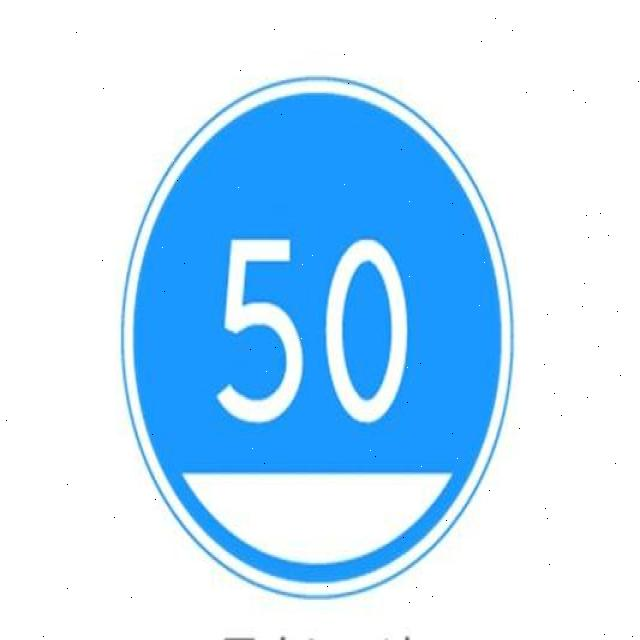speed limit 50: (121, 78, 514, 602)
